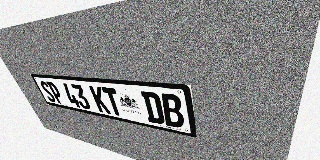3: (70, 84, 92, 110)
4: (61, 83, 81, 108)
B: (159, 93, 185, 129)
D: (140, 91, 165, 125)
K: (89, 86, 111, 114)
P: (46, 81, 65, 105)
S: (38, 81, 57, 103)
T: (101, 87, 124, 117)
